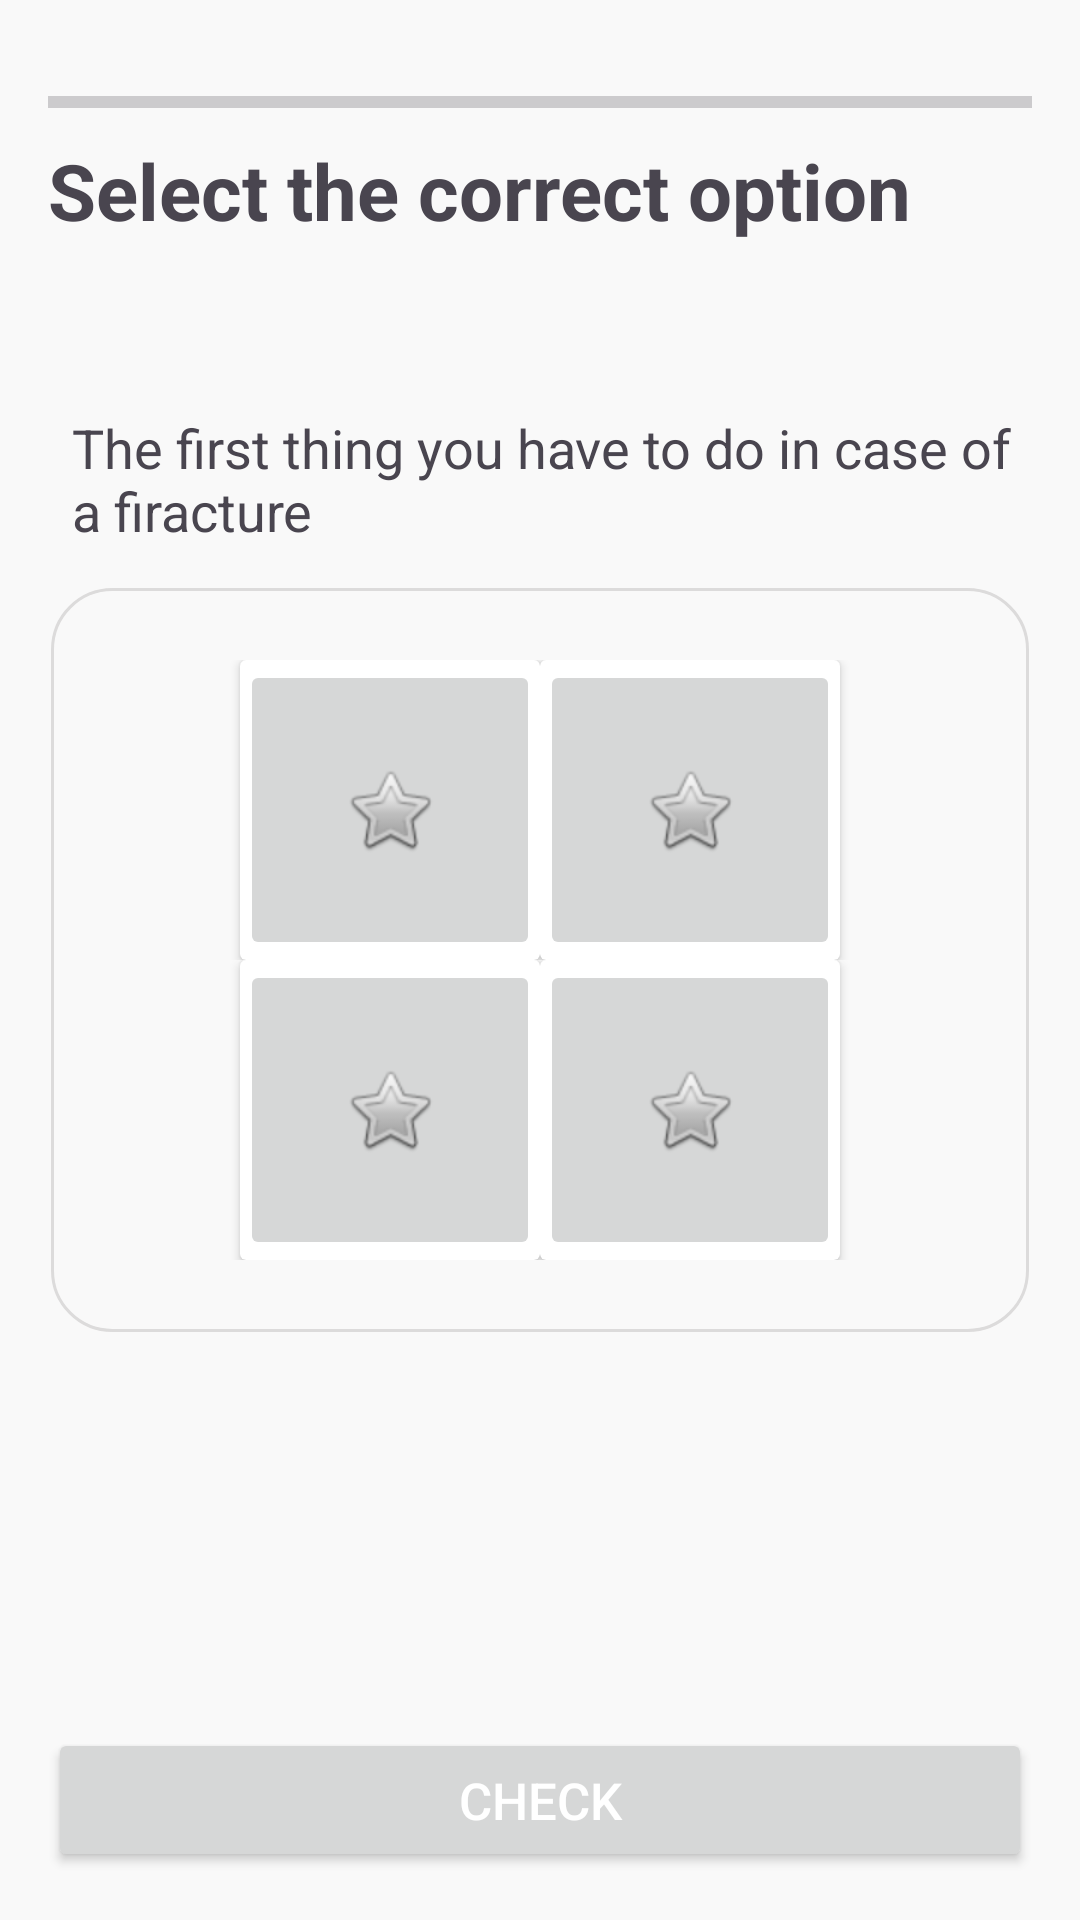

Screen size 1080x1920. Icon name, then its center in pixels as (x,y):
star: (390,810), (690,810), (390,1111), (690,1111)
